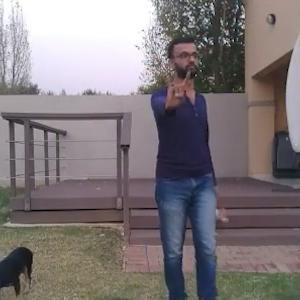takeoff-hand: (160, 63, 194, 108)
